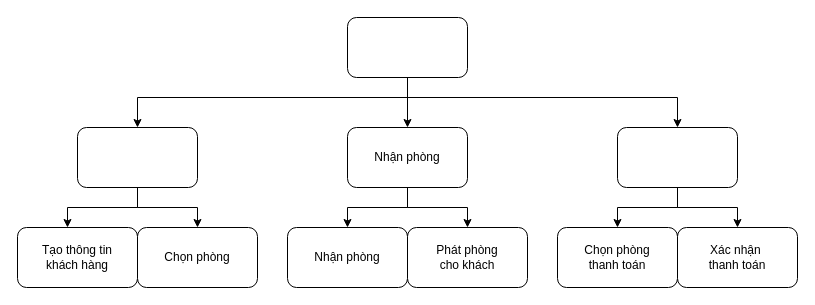
Image size: 815x305. Some labels were removed from this diagram. The box of each missing label's shape, as (x1, y1, x2, y2) in pixels:
Quản lí khách sạn: (346, 16, 468, 78)
Thanh toán: (616, 126, 738, 188)
Đặt phòng: (76, 126, 198, 188)
